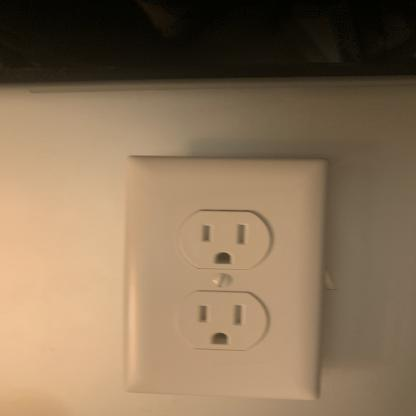OUTLET: (124, 160, 326, 396)
